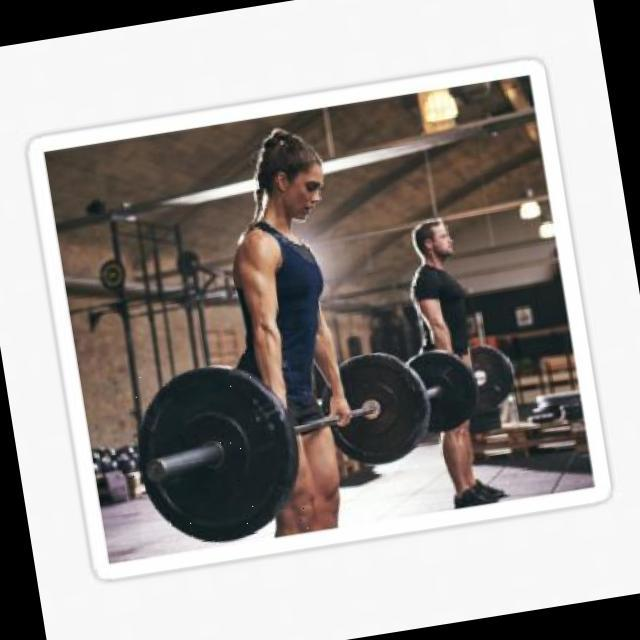barbell: (117, 347, 318, 560)
